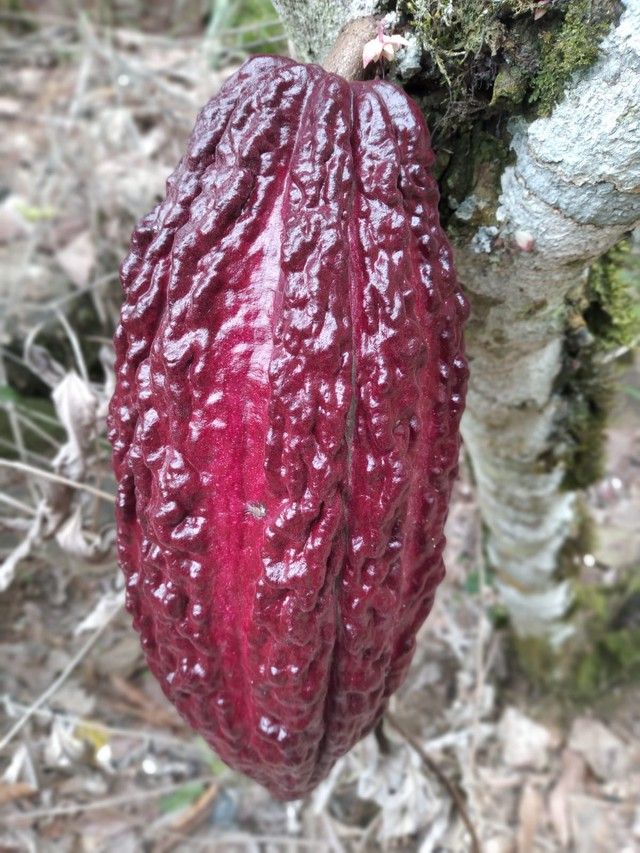Health: (63, 32, 502, 815)
